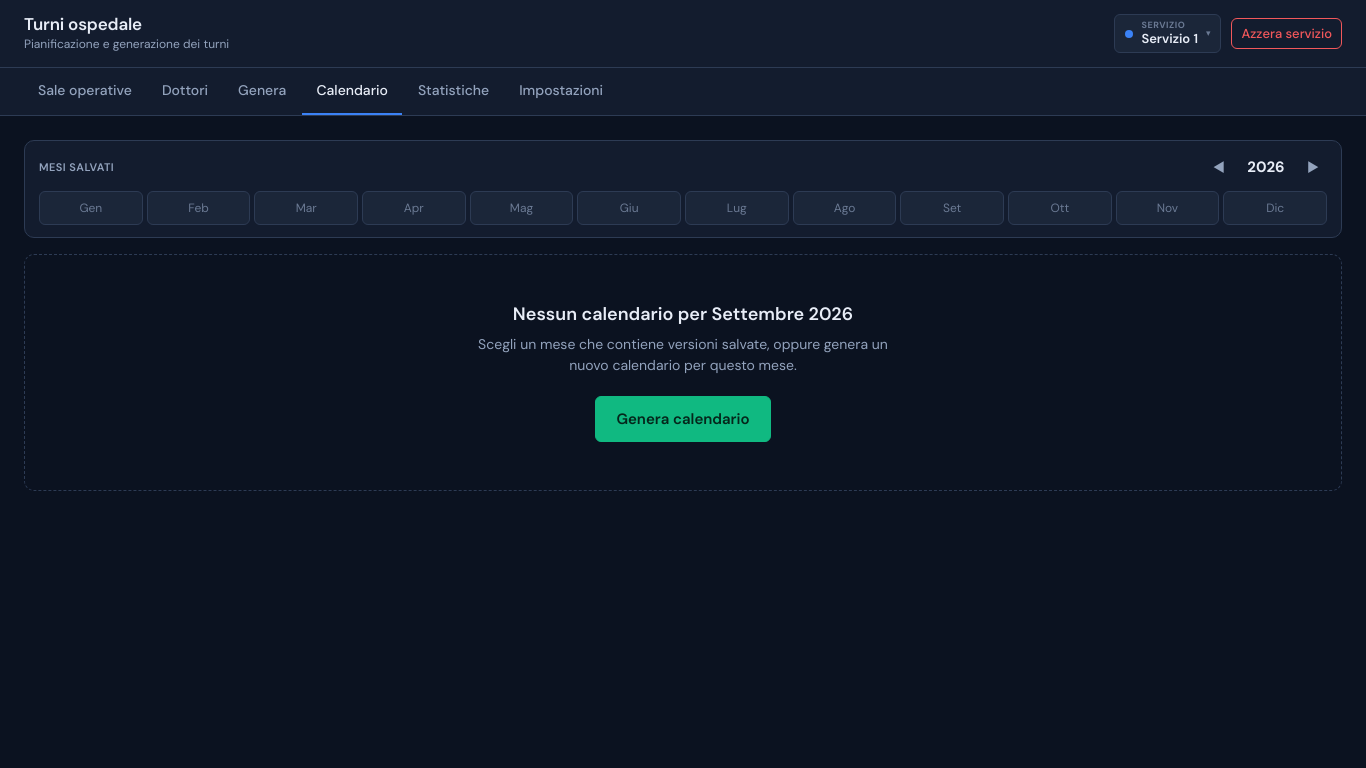
it: configurazione di base › mostra la griglia dei turni quando si configura una sala
Click the button "Sale operative": (85, 92) [24,68,146,115]
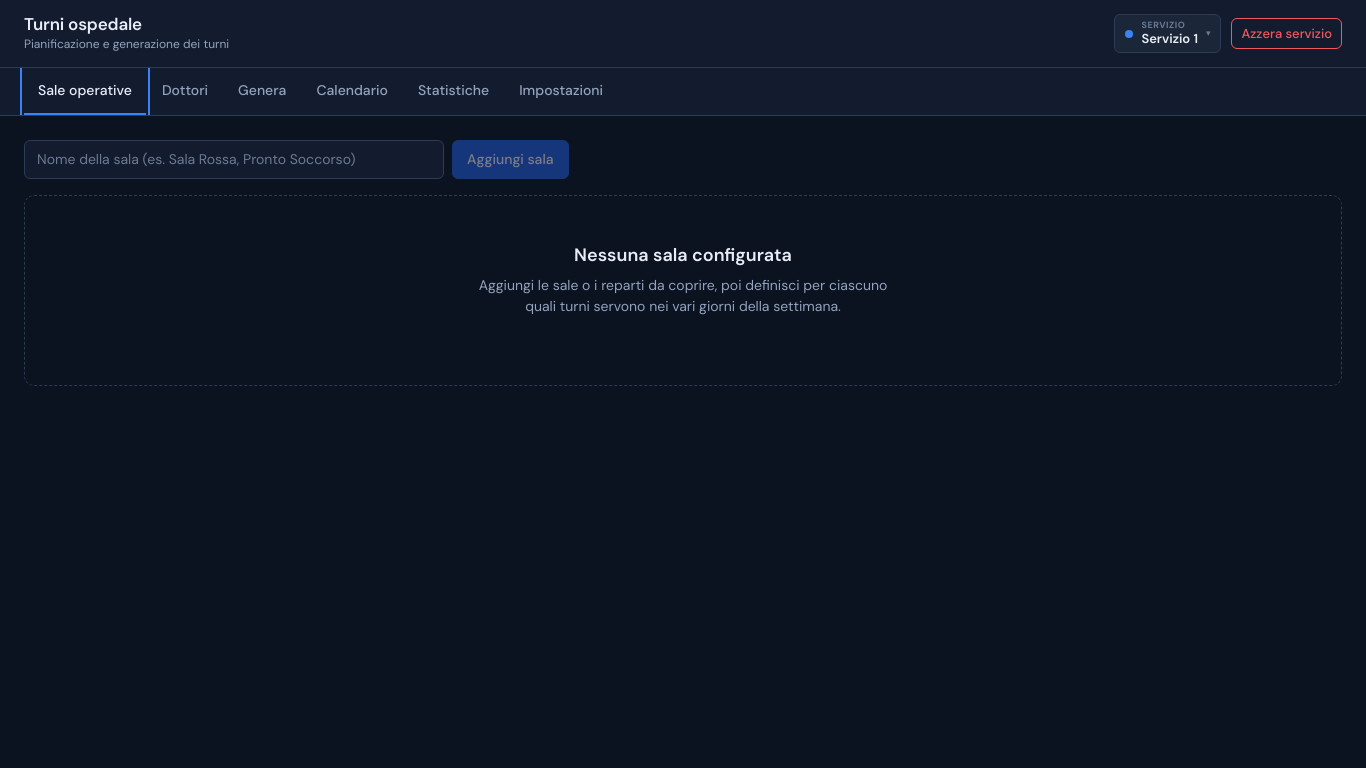
In the field with placeholder "Nome della sala (es. Sala Rossa, Pronto Soccorso)": (234, 160) [24,140,444,179], type "Sala 1"
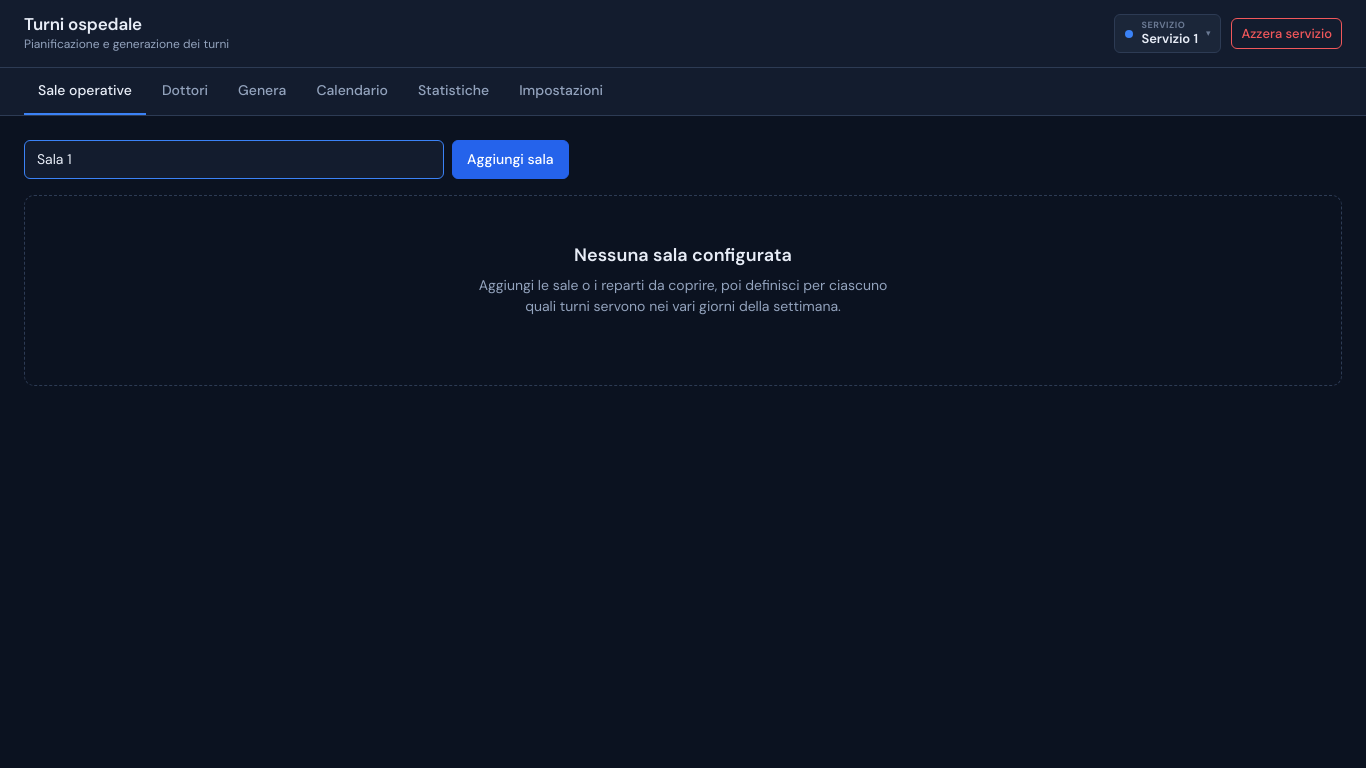
Click the button "Aggiungi sala": (510, 160) [452,140,568,179]
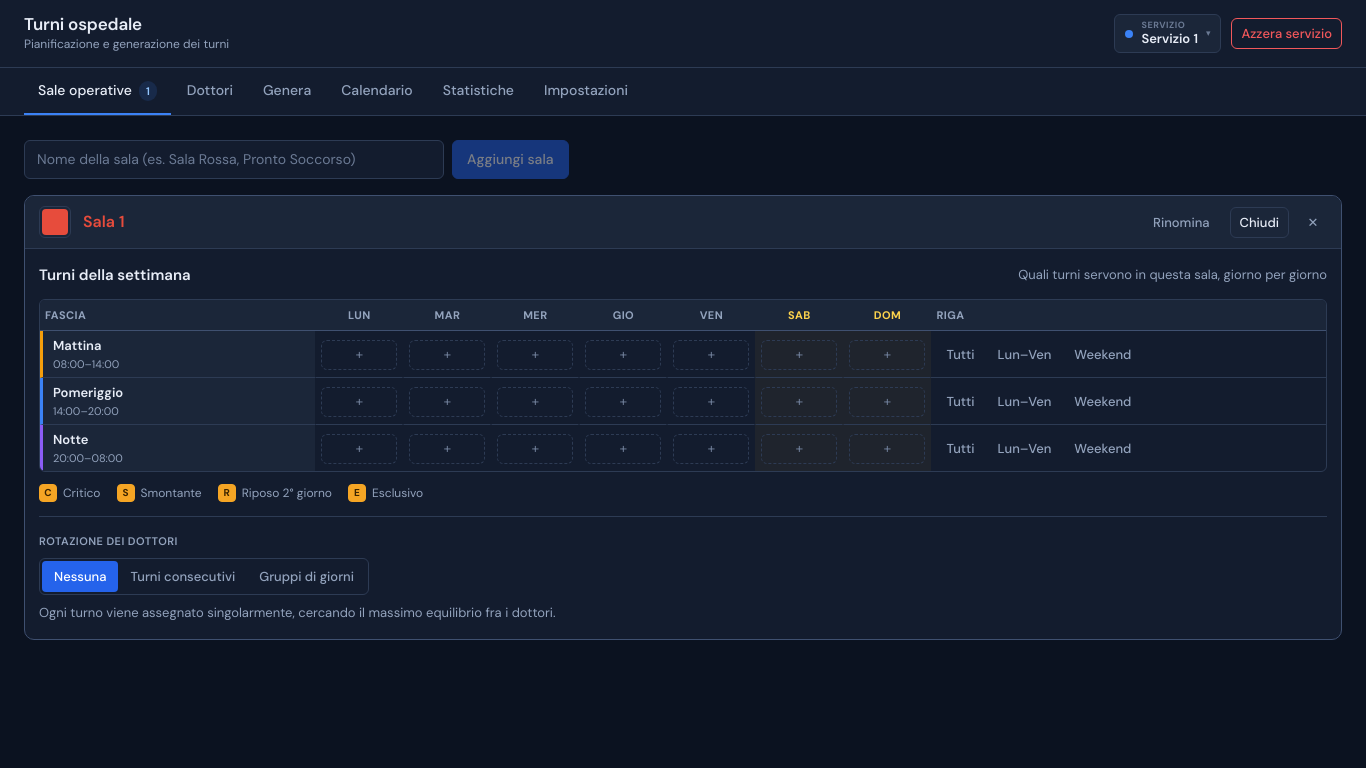
Now the heading "Turni della settimana" is shown, box [39,266,190,284]
Now the text "Mattina" is shown, box [53,337,101,354]
Now the text "Notte" is shown, box [53,431,88,448]
